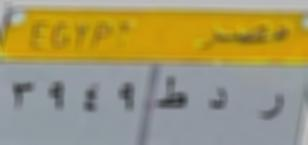3: (4, 75, 36, 115)
4: (80, 80, 102, 120)
9: (114, 79, 138, 117), (47, 79, 68, 114)
Taa: (154, 71, 190, 123)
daal: (206, 82, 230, 118)
raa: (254, 88, 290, 132)
